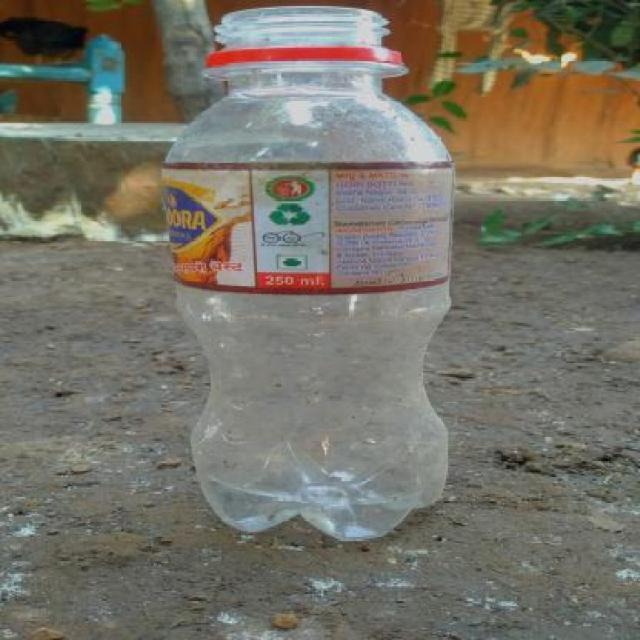bottle: (143, 0, 485, 554)
